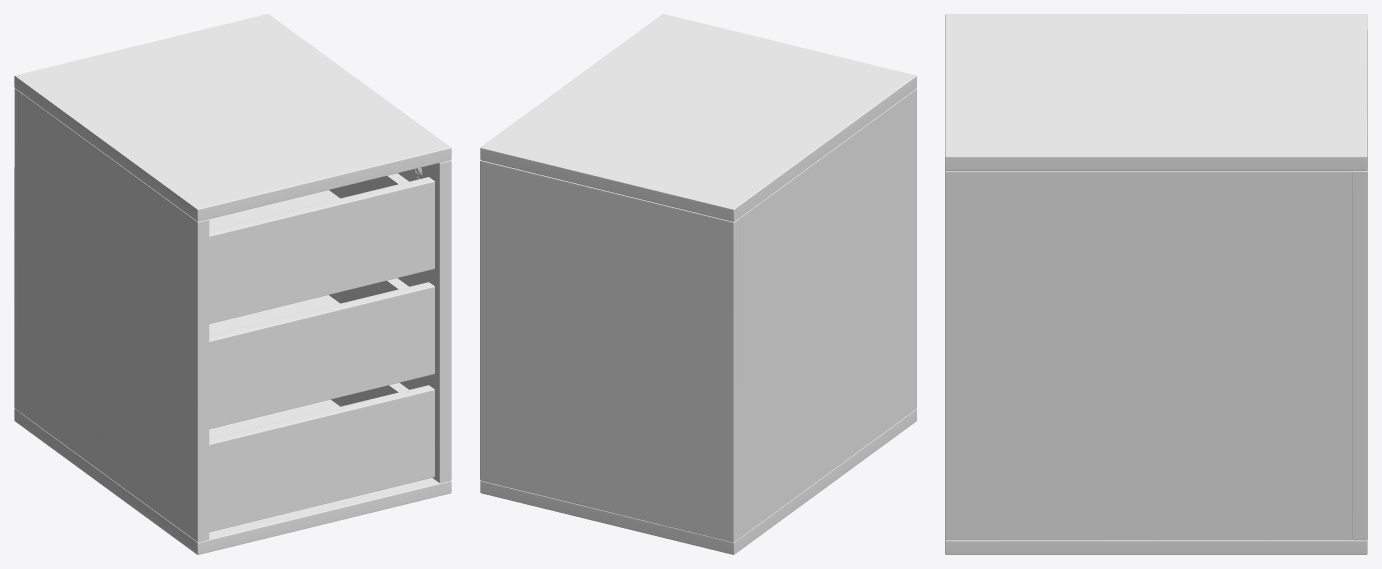
Rendered from abo-B07H8PTW71.glb.
The picture shows the model from 3 angles, left to right: view 1: azimuth 30°, elevation 25°; view 2: azimuth 150°, elevation 25°; view 3: azimuth 270°, elevation 25°; orthographic projection. The views are drawn at different scales.
Size of the model in its own units: 0.4 by 0.52 by 0.5.
1 material, 1 textured.
